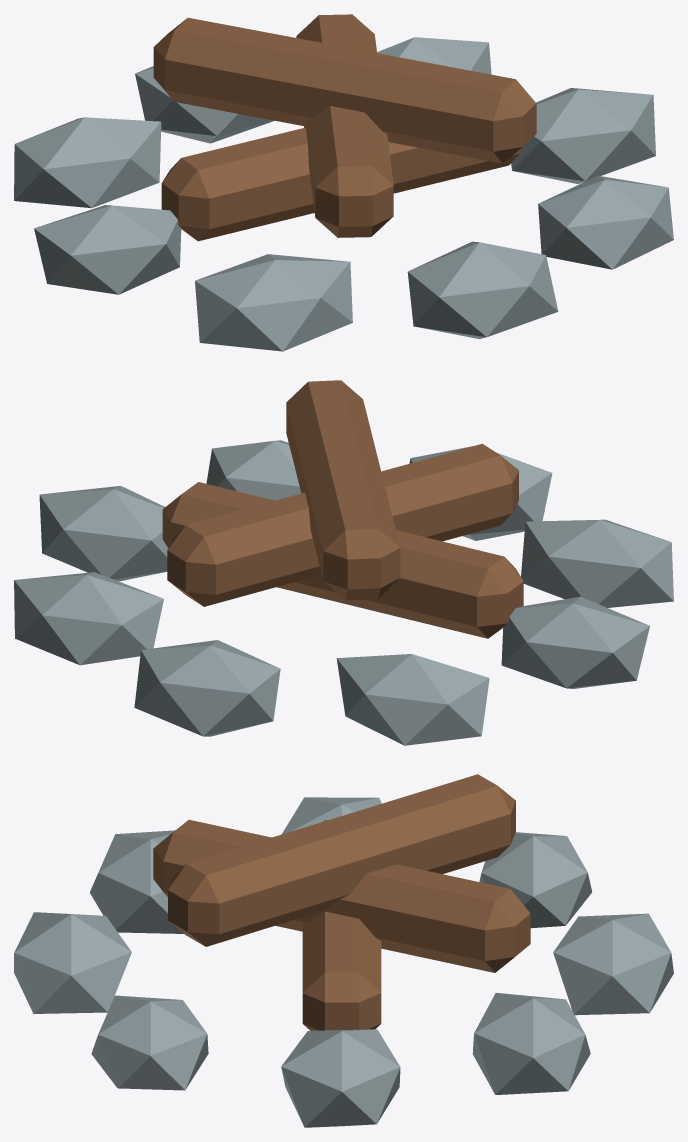
Rendered from enfeite_fogueira.glb.
3 renders of one model, top to bottom at view 1: azimuth 30°, elevation 25°; view 2: azimuth 150°, elevation 25°; view 3: azimuth 270°, elevation 25°, orthographic. The views are drawn at different scales.
Visible parts, largest first — view 1: bosque_enfeite_fogueira; view 2: bosque_enfeite_fogueira; view 3: bosque_enfeite_fogueira.
Boxes of the visible parts, bbox=[...] form: bosque_enfeite_fogueira: bbox=[14, 14, 673, 351]; bosque_enfeite_fogueira: bbox=[14, 380, 673, 745]; bosque_enfeite_fogueira: bbox=[14, 774, 673, 1127].
Bounding box in the file's own units: 0.624 × 0.1841 × 0.5853.
